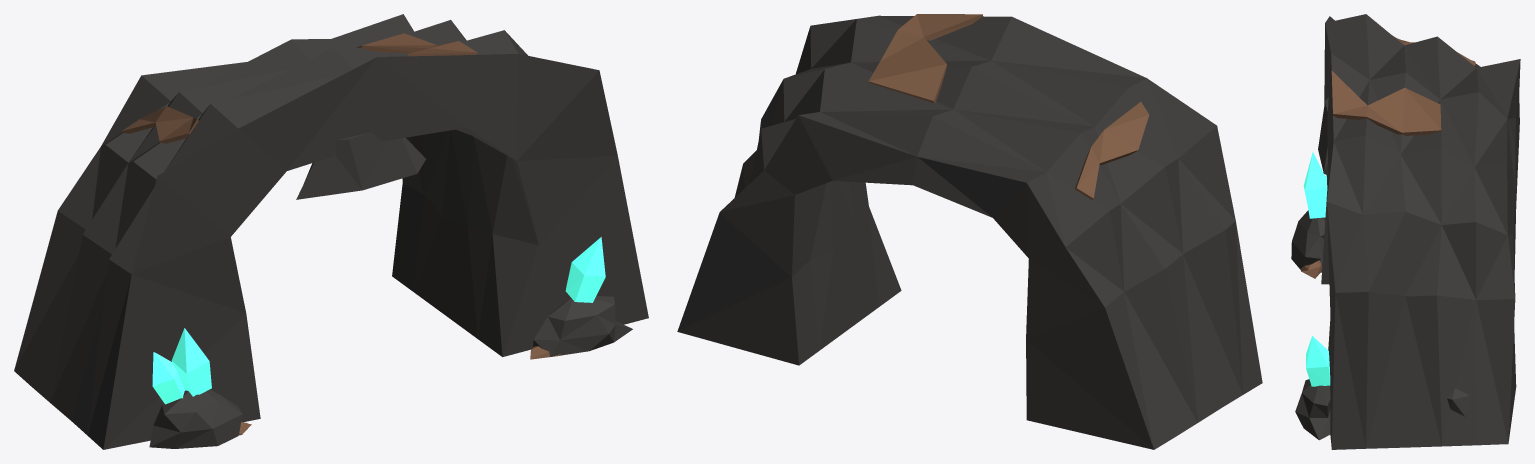
The model's file is RC_CaveMouth.fbx.
3 views of the same model, side by side, from view 1: azimuth 30°, elevation 25°; view 2: azimuth 150°, elevation 25°; view 3: azimuth 270°, elevation 25° (orthographic). The views are drawn at different scales.
Parts seen in each view (by area): view 1: RC_CaveMouth_Rock, RC_CaveMouth_Neon_Crystal, RC_CaveMouth_Clay; view 2: RC_CaveMouth_Rock, RC_CaveMouth_Clay; view 3: RC_CaveMouth_Rock, RC_CaveMouth_Clay, RC_CaveMouth_Neon_Crystal.
Boxes of the visible parts, <box> form: RC_CaveMouth_Rock: <box>14,14,648,449</box>; RC_CaveMouth_Neon_Crystal: <box>152,237,605,404</box>; RC_CaveMouth_Clay: <box>122,33,561,435</box>; RC_CaveMouth_Rock: <box>677,15,1262,449</box>; RC_CaveMouth_Clay: <box>868,14,1149,199</box>; RC_CaveMouth_Rock: <box>1291,14,1520,449</box>; RC_CaveMouth_Clay: <box>1300,35,1475,278</box>; RC_CaveMouth_Neon_Crystal: <box>1303,152,1330,386</box>.
Size of the model in its own units: 36.06 by 20.75 by 15.26.
